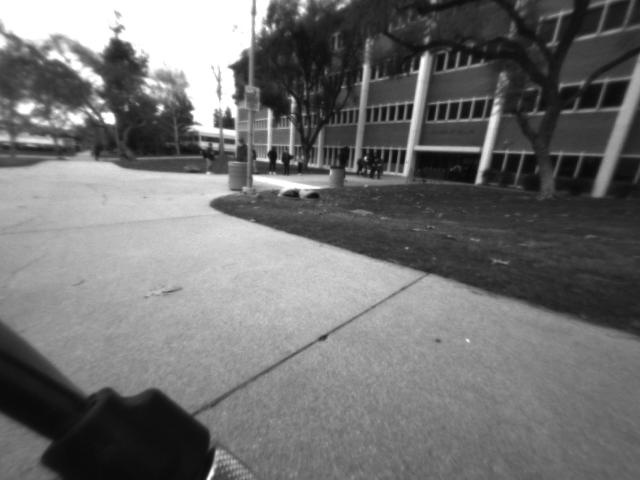trashcan: (224, 156, 251, 193), (325, 161, 347, 191)
